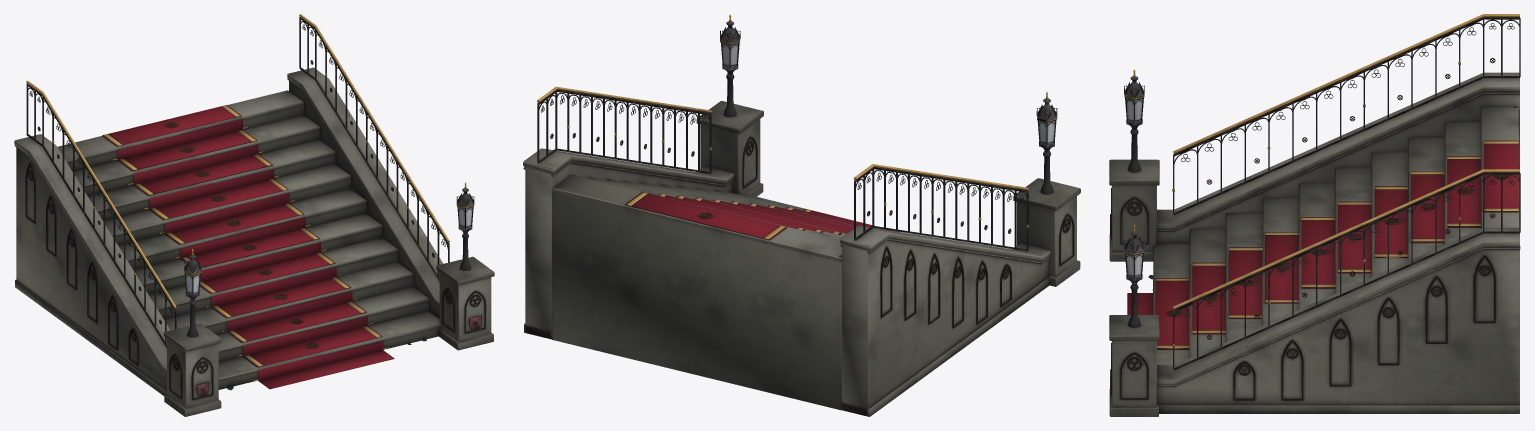
The model's file is StairGrand.fbx.
3 views of the same model, side by side, from view 1: azimuth 30°, elevation 25°; view 2: azimuth 150°, elevation 25°; view 3: azimuth 270°, elevation 25° (orthographic). The views are drawn at different scales.
Parts seen in each view (by area): view 1: StairGrand_Main, StairGrand_Runner, StairGrand_Rail, StairGrand_Glass; view 2: StairGrand_Main, StairGrand_Rail, StairGrand_Runner, StairGrand_Glass; view 3: StairGrand_Main, StairGrand_Runner, StairGrand_Rail, StairGrand_Glass.
Part boxes in pixels (bbox=[...]): StairGrand_Main: bbox=[14, 67, 494, 416]; StairGrand_Runner: bbox=[102, 105, 394, 389]; StairGrand_Rail: bbox=[26, 14, 449, 347]; StairGrand_Glass: bbox=[185, 207, 472, 294]; StairGrand_Main: bbox=[523, 14, 1080, 416]; StairGrand_Rail: bbox=[537, 86, 1057, 251]; StairGrand_Runner: bbox=[625, 192, 898, 240]; StairGrand_Glass: bbox=[722, 43, 1054, 144]; StairGrand_Main: bbox=[1109, 72, 1520, 416]; StairGrand_Runner: bbox=[1127, 140, 1518, 350]; StairGrand_Rail: bbox=[1124, 14, 1520, 370]; StairGrand_Glass: bbox=[1126, 98, 1142, 277].
Bounding box in the file's own units: 1490 × 937 × 1468.
